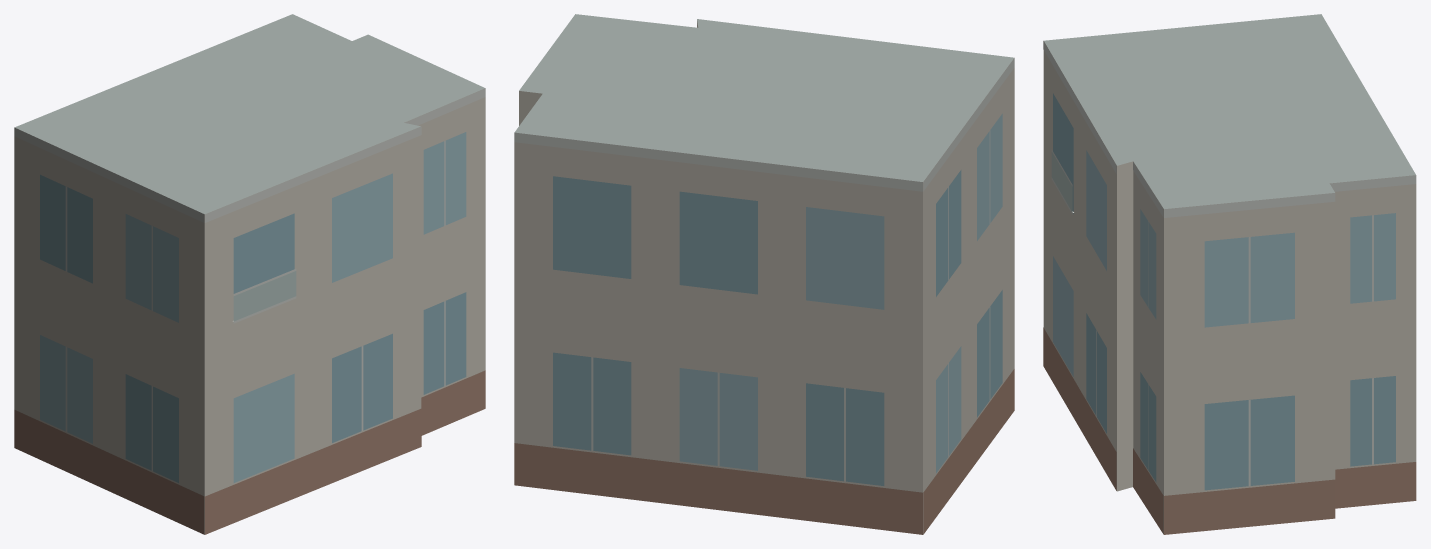
File: survey-upis-32500129.glb
3 renders of one model, left to right at view 1: azimuth 30°, elevation 25°; view 2: azimuth 150°, elevation 25°; view 3: azimuth 270°, elevation 25°, orthographic. The views are drawn at different scales.
Visible parts, largest first — view 1: survey-upis-32500129.tmp; view 2: survey-upis-32500129.tmp; view 3: survey-upis-32500129.tmp.
Boxes of the visible parts, <box> form: survey-upis-32500129.tmp: <box>14,14,485,534</box>; survey-upis-32500129.tmp: <box>514,14,1014,534</box>; survey-upis-32500129.tmp: <box>1043,14,1416,534</box>.
Size of the model in its own units: 11.45 by 8.9 by 9.24.
